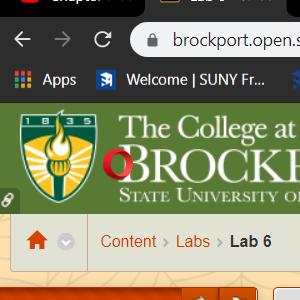opera: (103, 150, 133, 180)
